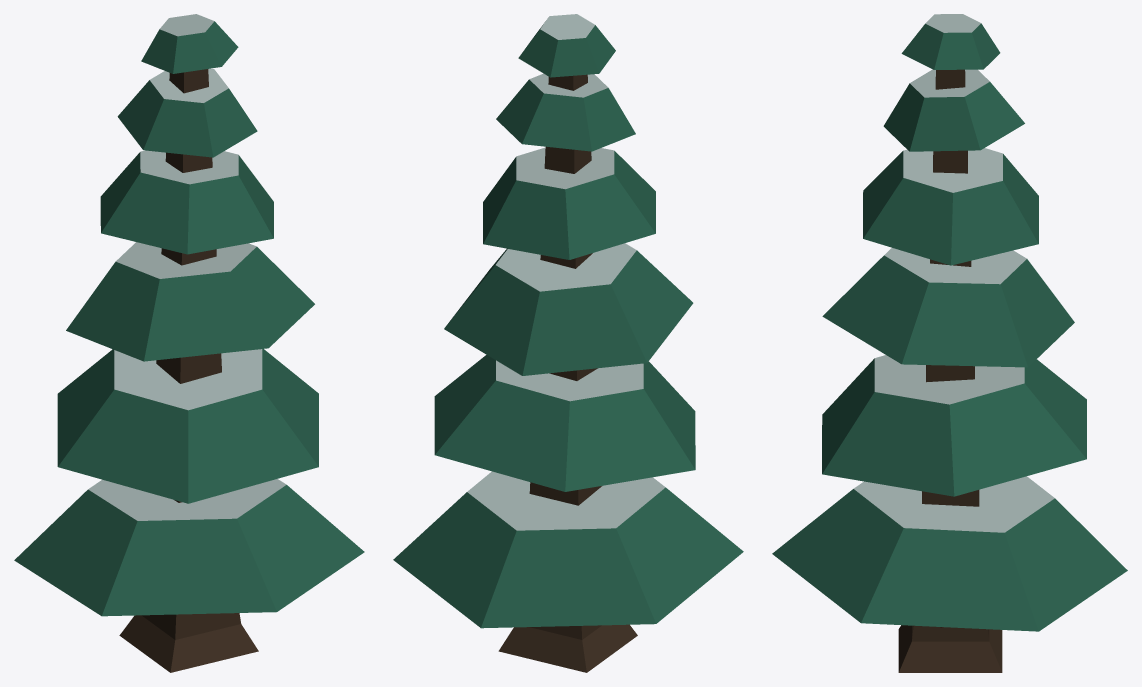
The model's file is sw_pine_round.glb.
The picture shows the model from 3 angles, left to right: view 1: azimuth 30°, elevation 25°; view 2: azimuth 150°, elevation 25°; view 3: azimuth 270°, elevation 25°; orthographic projection.
Visible parts, largest first — view 1: sw_pine_round; view 2: sw_pine_round; view 3: sw_pine_round.
Boxes of the visible parts, bbox=[...] form: sw_pine_round: bbox=[14, 14, 364, 672]; sw_pine_round: bbox=[393, 14, 743, 672]; sw_pine_round: bbox=[772, 14, 1127, 672].
Bounding box in the file's own units: 2.67 × 6 × 3.08.
